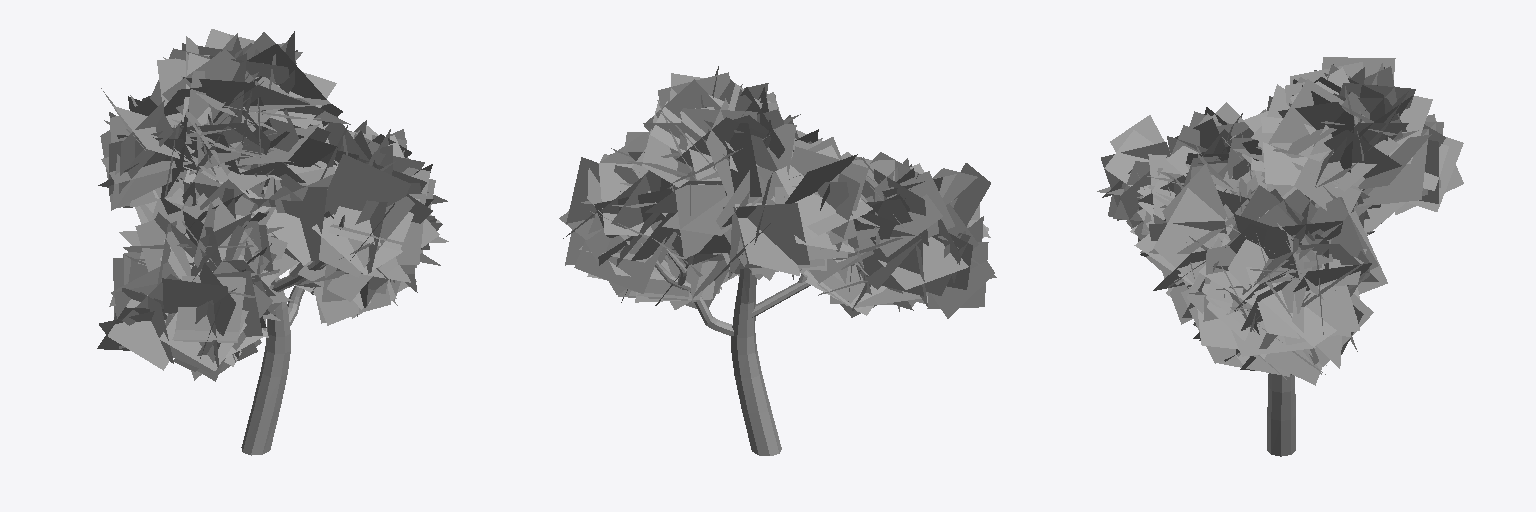
Rendered from NormalTree_5.obj.
The picture shows the model from 3 angles: view 1: azimuth 30°, elevation 25°; view 2: azimuth 150°, elevation 25°; view 3: azimuth 270°, elevation 25°; orthographic projection.
Visible parts, largest first — view 1: NormalTree_5_Cylinder.005; view 2: NormalTree_5_Cylinder.005; view 3: NormalTree_5_Cylinder.005.
Boxes of the visible parts, x1=… form: NormalTree_5_Cylinder.005: x1=97, y1=29, x2=448, y2=455; NormalTree_5_Cylinder.005: x1=559, y1=66, x2=996, y2=455; NormalTree_5_Cylinder.005: x1=1097, y1=57, x2=1463, y2=456.
Bounding box in the file's own units: 3.1 × 2.98 × 2.57.